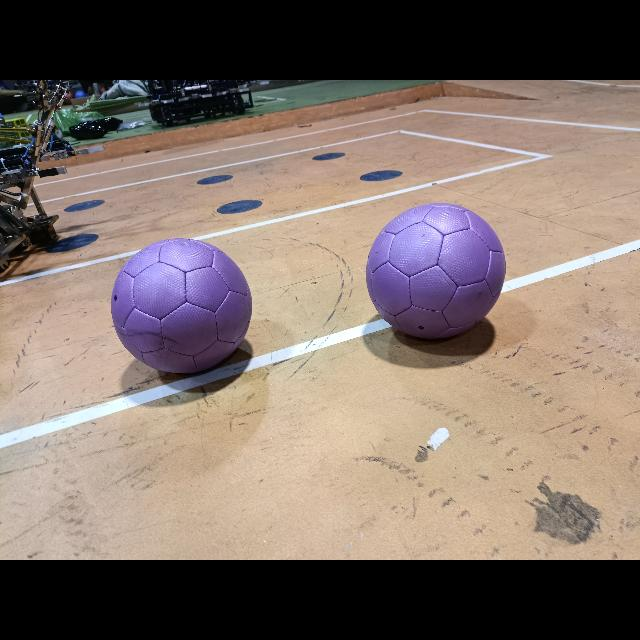P: (111, 239, 251, 373), (366, 204, 506, 338)
